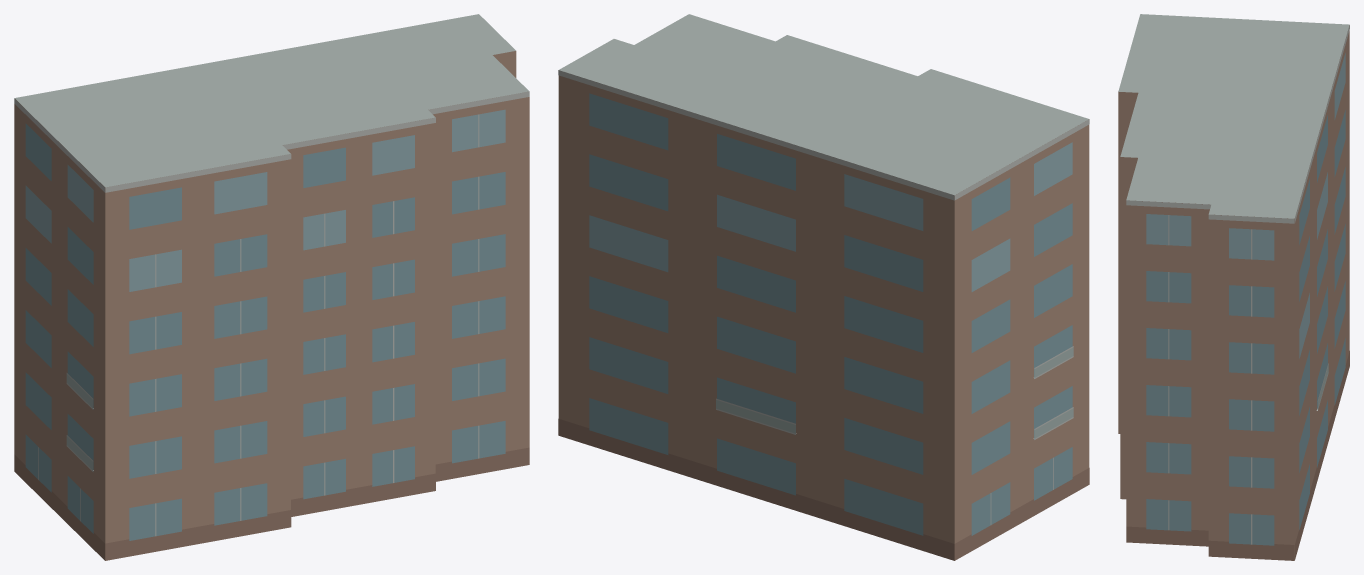
Rendered from survey-upis-33011664.glb.
The picture shows the model from 3 angles, left to right: view 1: azimuth 30°, elevation 25°; view 2: azimuth 150°, elevation 25°; view 3: azimuth 270°, elevation 25°; orthographic projection. The views are drawn at different scales.
Parts seen in each view (by area): view 1: survey-upis-33011664.tmp; view 2: survey-upis-33011664.tmp; view 3: survey-upis-33011664.tmp.
Part boxes in pixels (left/top/right/bottom): survey-upis-33011664.tmp: left=14, top=14, right=529, bottom=560; survey-upis-33011664.tmp: left=558, top=14, right=1089, bottom=560; survey-upis-33011664.tmp: left=1118, top=14, right=1349, bottom=560.
Size of the model in its own units: 21.57 by 16.8 by 10.31.
